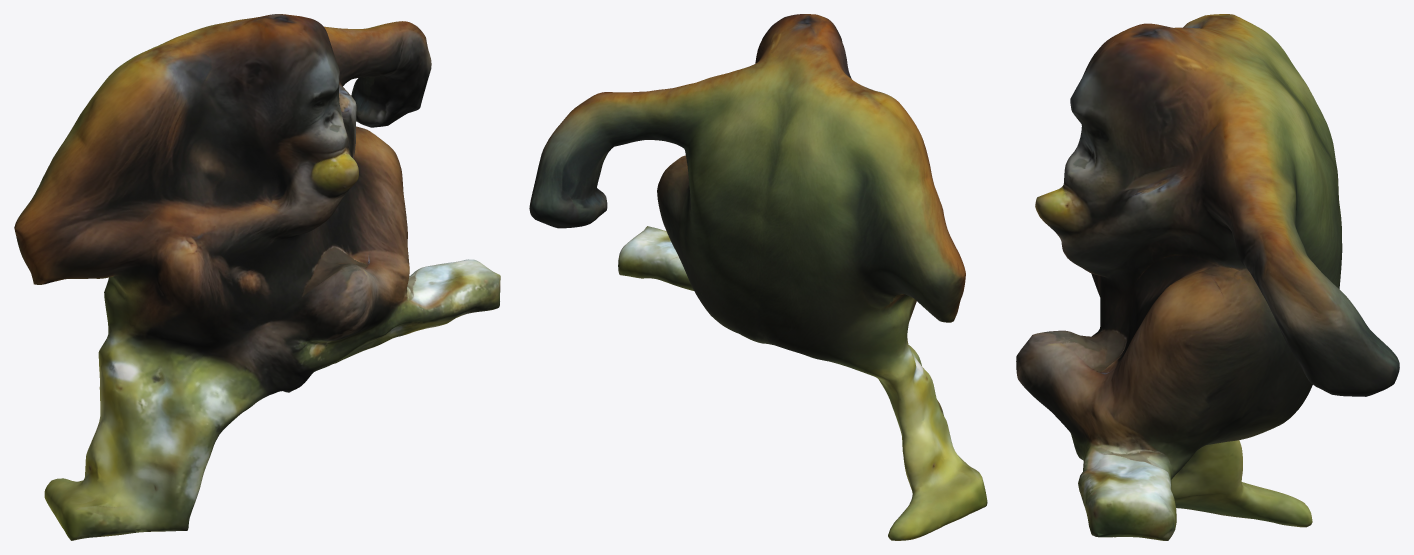
File: orang_utan_0610014930.fbx
3 renders of one model, left to right at view 1: azimuth 30°, elevation 25°; view 2: azimuth 150°, elevation 25°; view 3: azimuth 270°, elevation 25°, orthographic. The views are drawn at different scales.
Visible parts, largest first — view 1: Mesh_0; view 2: Mesh_0; view 3: Mesh_0.
Part boxes in pixels (bbox=[...]): Mesh_0: bbox=[14, 14, 500, 540]; Mesh_0: bbox=[529, 14, 987, 540]; Mesh_0: bbox=[1016, 14, 1399, 540].
Size of the model in its own units: 112 by 120 by 70.8.
Materials: 1 (1 with a texture image).
